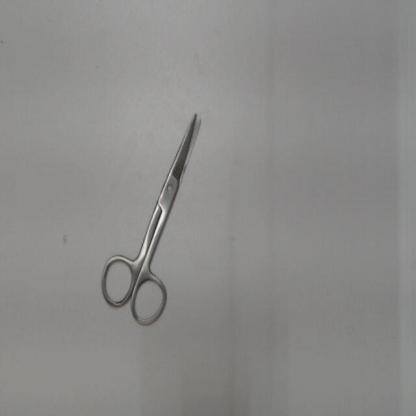Dressing Scissors: (92, 95, 214, 340)
